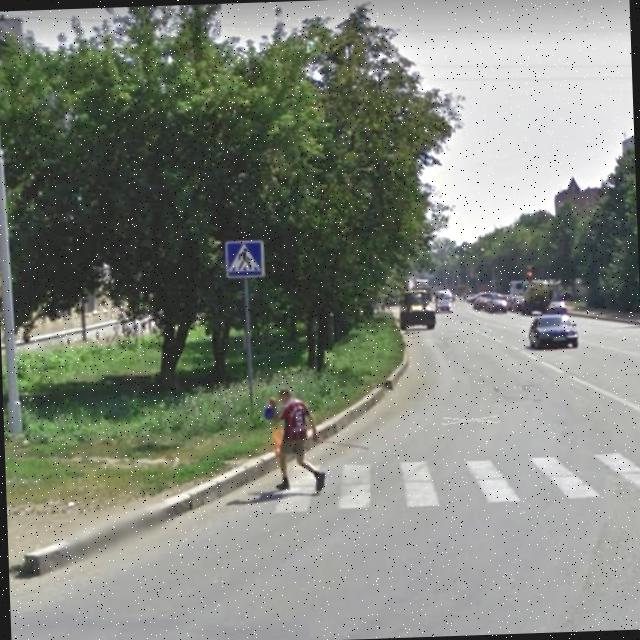Przejscie dla pieszych: (220, 233, 270, 283)
